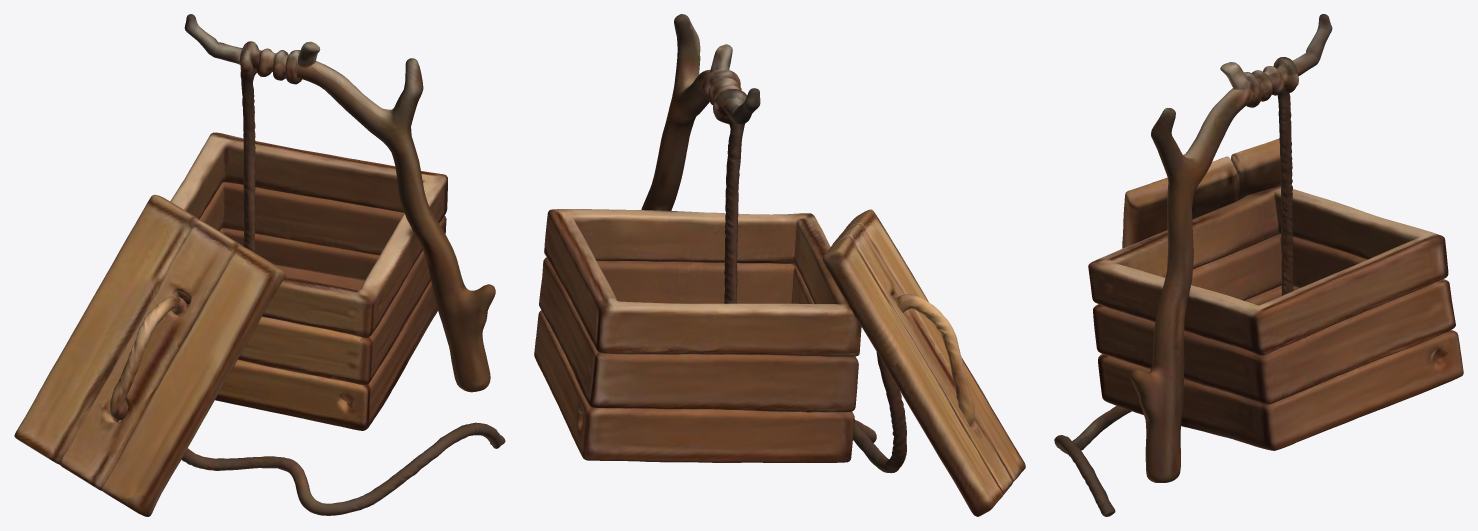
The model's file is gieng.glb.
3 views of the same model, side by side, from view 1: azimuth 30°, elevation 25°; view 2: azimuth 150°, elevation 25°; view 3: azimuth 270°, elevation 25° (orthographic). The views are drawn at different scales.
Bounding box in the file's own units: 0.1913 × 0.1791 × 0.1578.
1 material, 1 textured.
